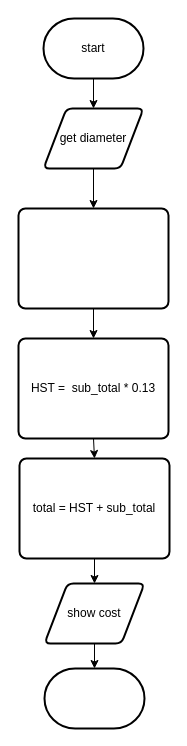
The diagram is 187 pixels wide and 746 high, and some of its shapes have lost their labels. Here are the shapes that lost their labels. From the top down, the centre of each, then its label:
(x=93, y=258): sub_total = 1.00 + 0.75 + (0.5 * diameter
(x=94, y=698): end
